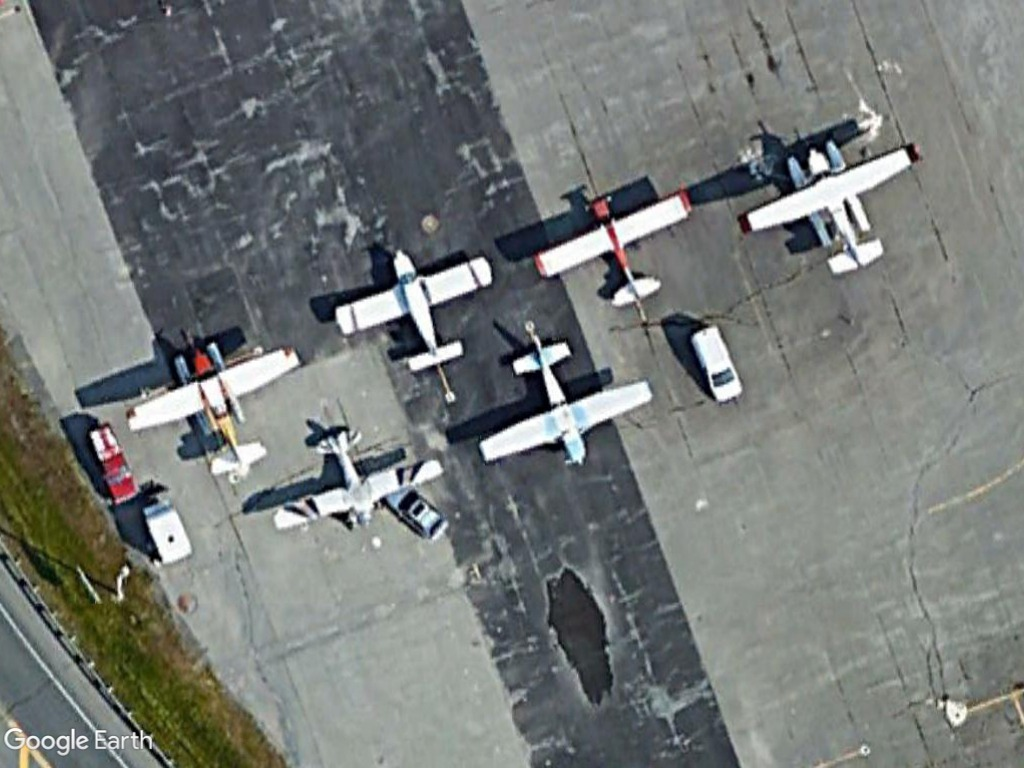trainer: (126, 332, 309, 486), (470, 325, 651, 470), (320, 247, 505, 384), (528, 178, 695, 314), (267, 431, 448, 538)
